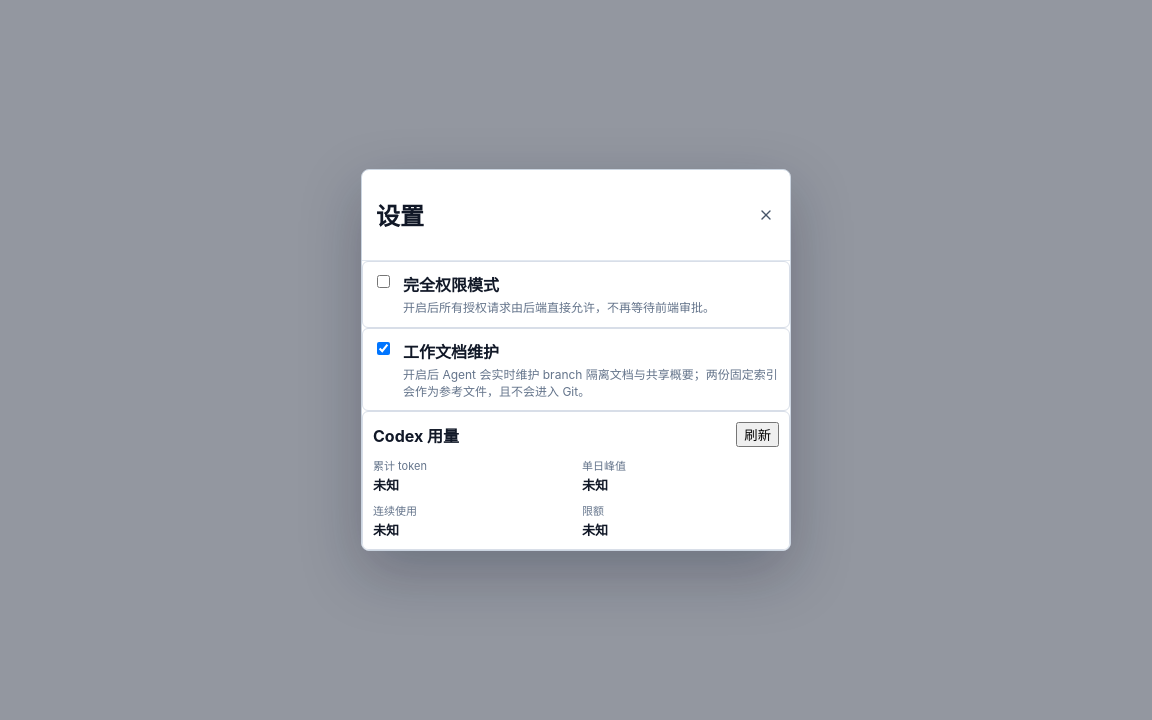
AppSettingsDialog › shows a settings update error without closing the dialog
This screenshot has width=1152, height=720.
Step 1. Click the checkbox labelled "工作文档维护" → [384, 348], box 377,342 -> 390,355
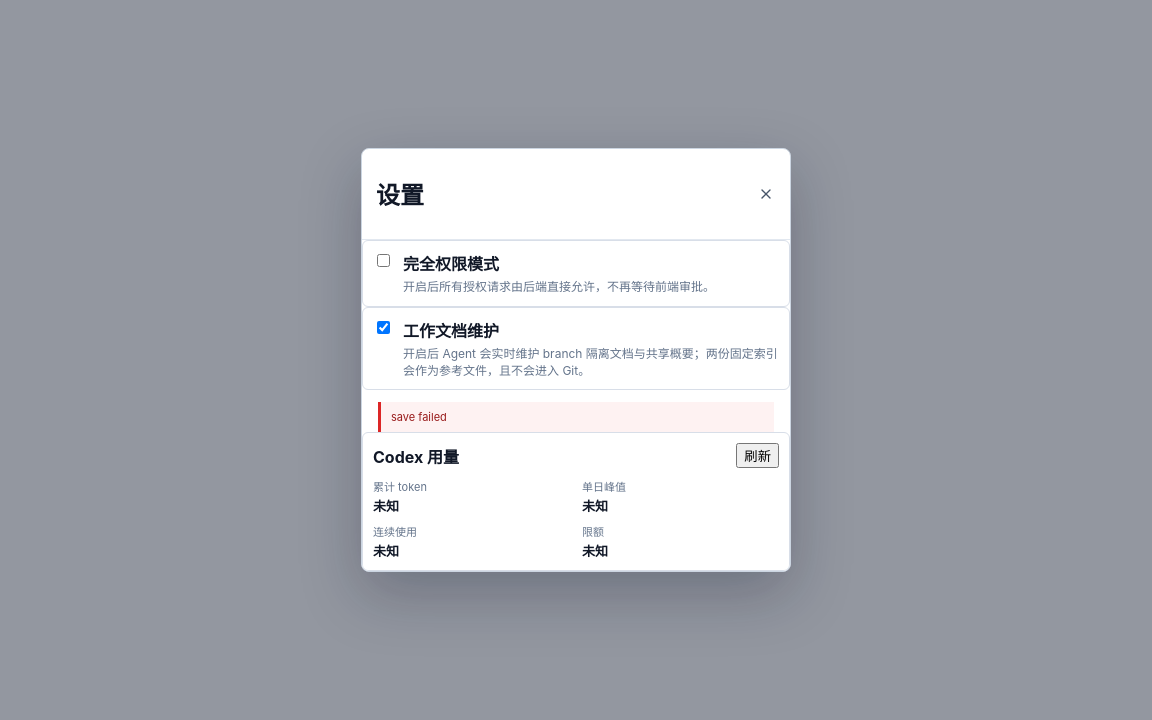
Expected: the checkbox labelled "工作文档维护" is checked, 377,321 -> 390,334
Expected: the text "save failed" is shown, 378,402 -> 774,432
